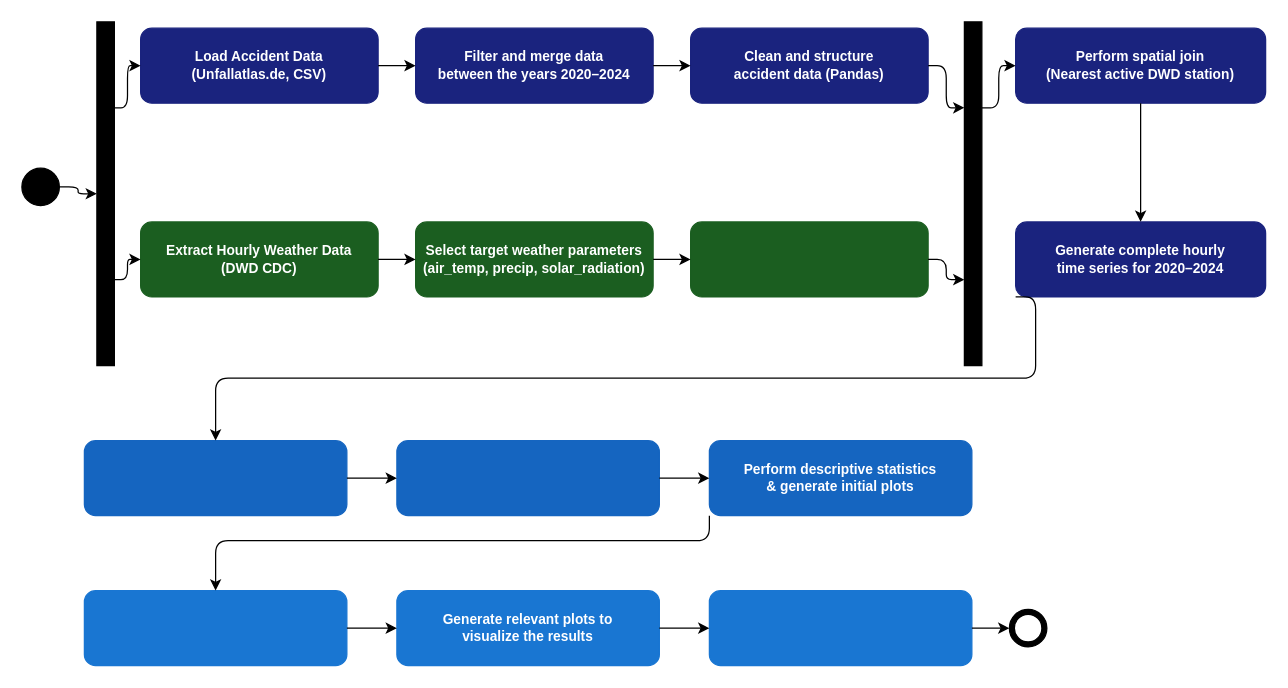
Image size: 1288x688. Some labels were removed from this diagram. Each missing label, with the centre of its shape:
Analyze research questions (RQ1–RQ4): (215,627)
Create final analytical table (Merge accidents, weather): (215,477)
Perform feature engineering (precip_intensity, is_weekend): (527,477)
Produce final project output: (840,627)
Standardize weather time (Convert from UTC to local time): (808,259)
